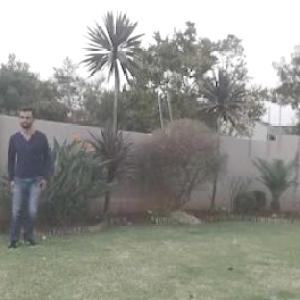follow: (4, 101, 49, 256)
